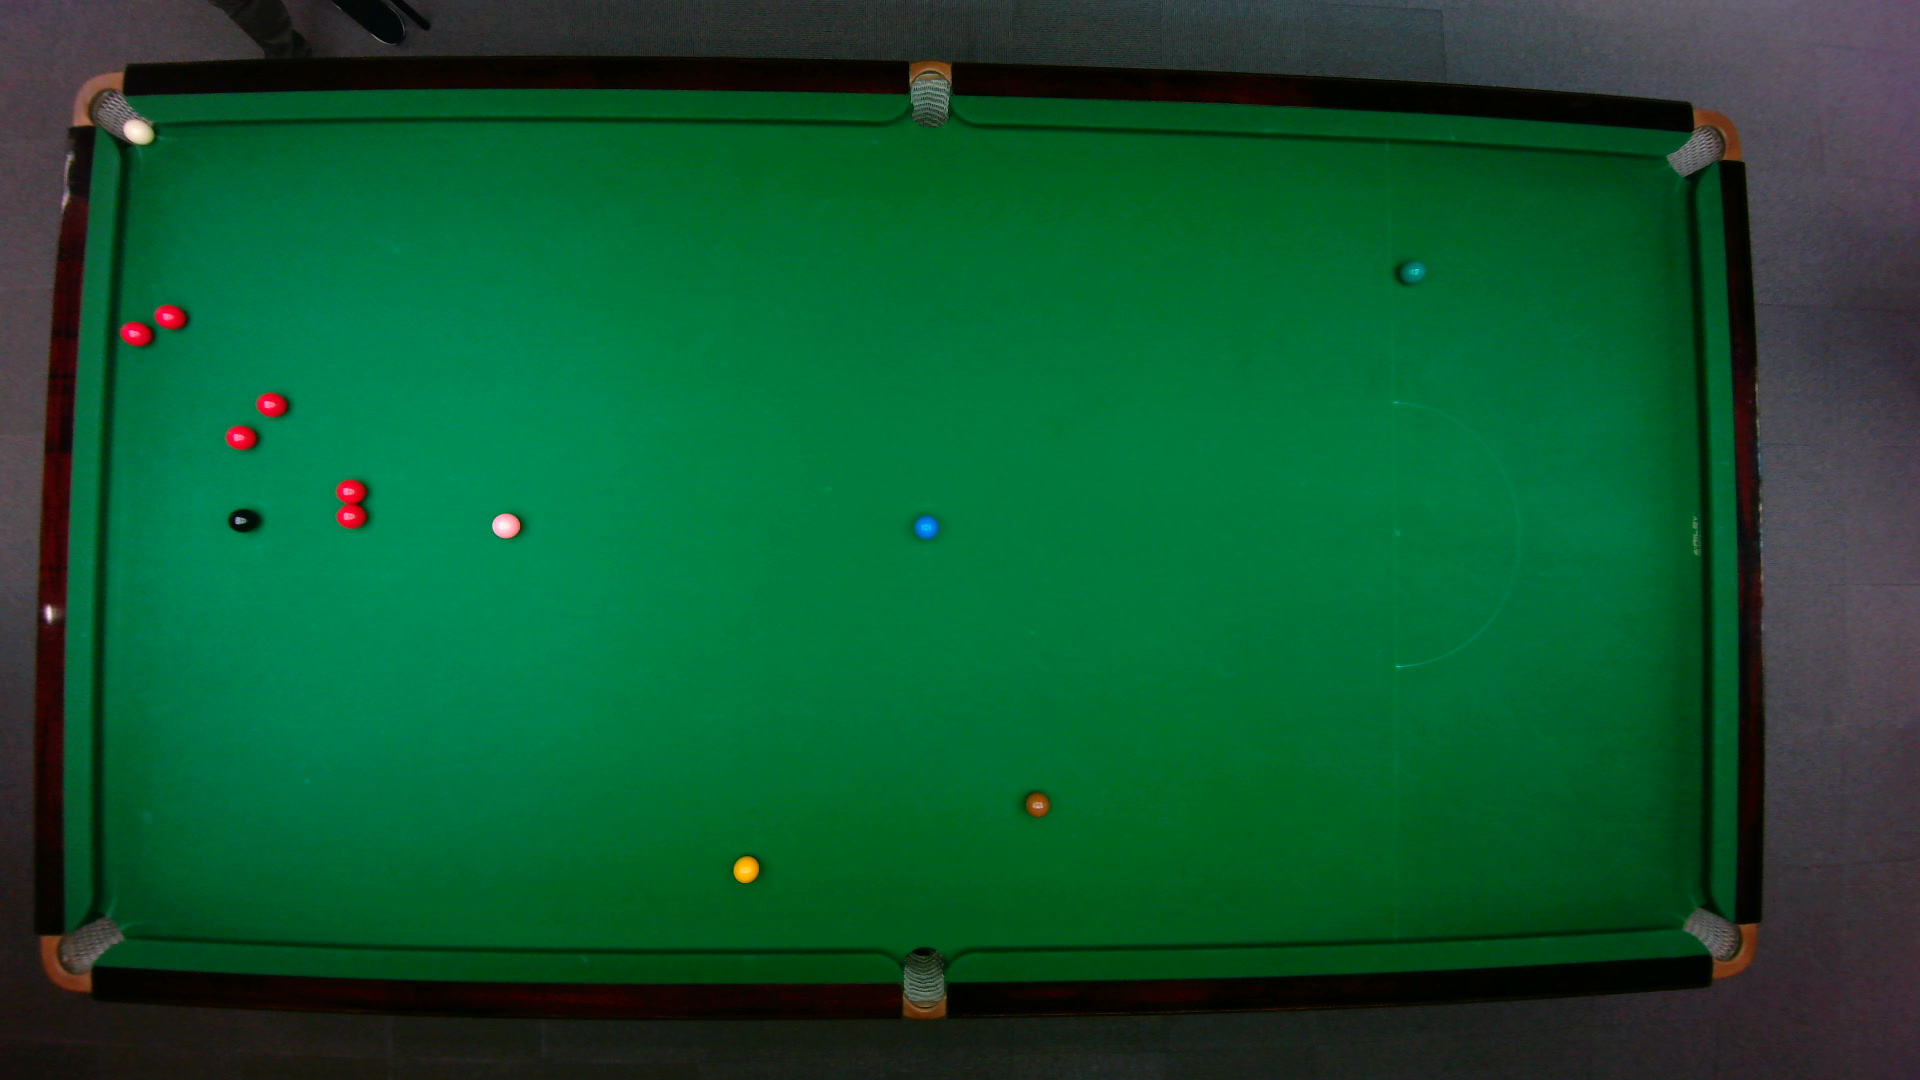bag: (69, 69, 157, 146), (38, 914, 125, 992), (1679, 905, 1756, 978), (1663, 107, 1741, 178), (901, 944, 945, 1021), (909, 58, 949, 128)
black: (224, 505, 258, 531)
blue: (913, 513, 939, 541)
brown: (1022, 790, 1050, 818)
green: (1396, 258, 1425, 284)
pink: (491, 510, 520, 539)
red: (152, 301, 187, 330), (116, 319, 153, 345), (222, 423, 257, 450), (334, 502, 367, 530), (334, 476, 367, 502), (255, 390, 287, 417)
white: (120, 115, 156, 145)
yellow: (731, 853, 760, 884)
zone: (1391, 400, 1520, 667)
